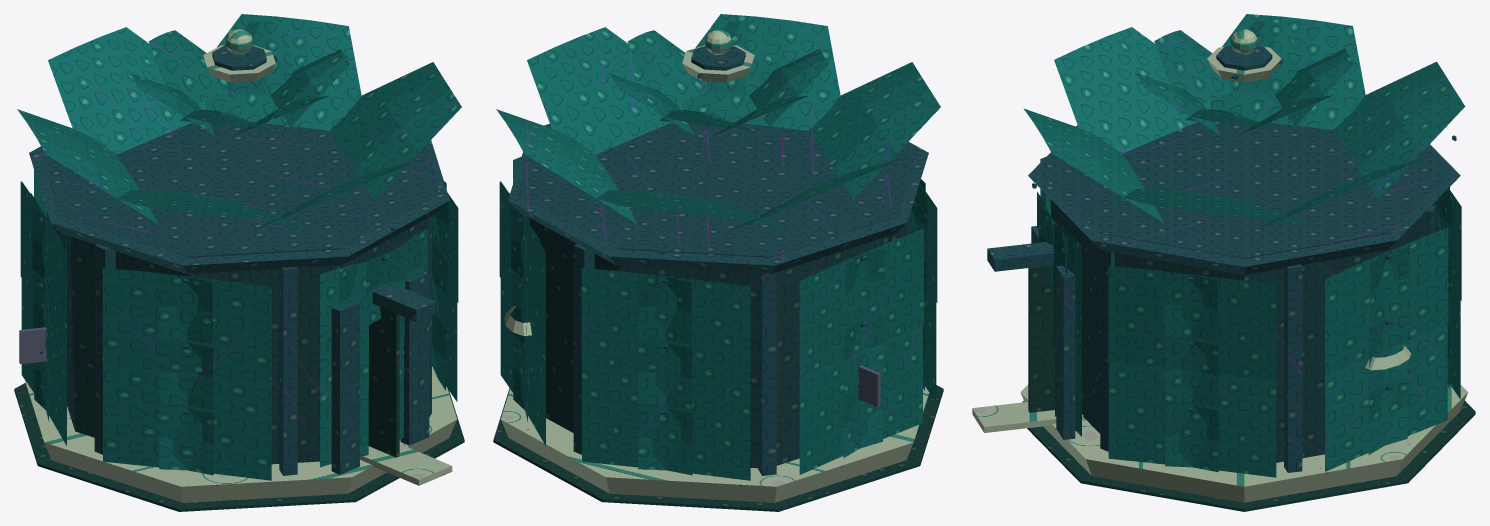
The model's file is env_hut_residential_b.glb.
3 renders of one model, left to right at view 1: azimuth 30°, elevation 25°; view 2: azimuth 150°, elevation 25°; view 3: azimuth 270°, elevation 25°, orthographic.
Parts seen in each view (by area): view 1: lod0__hut_b_shell, lod1__hut_b_shell, lod0__hut_b_clay, lod2__hut_b_shell, lod0__hut_b_alloy; view 2: lod0__hut_b_shell, lod1__hut_b_shell, lod2__hut_b_shell, lod0__hut_b_clay, lod0__hut_b_alloy; view 3: lod0__hut_b_shell, lod1__hut_b_shell, lod0__hut_b_clay, lod2__hut_b_shell.
Boxes of the visible parts, box(x1,y1,x2,y2) form: lod0__hut_b_shell: box(14, 14, 464, 511); lod1__hut_b_shell: box(18, 46, 458, 480); lod0__hut_b_clay: box(25, 29, 457, 502); lod2__hut_b_shell: box(21, 173, 457, 480); lod0__hut_b_alloy: box(19, 327, 46, 364); lod0__hut_b_shell: box(493, 14, 943, 511); lod1__hut_b_shell: box(497, 46, 937, 480); lod2__hut_b_shell: box(500, 157, 936, 479); lod0__hut_b_clay: box(500, 29, 929, 502); lod0__hut_b_alloy: box(858, 365, 880, 406); lod0__hut_b_shell: box(987, 14, 1475, 511); lod1__hut_b_shell: box(1024, 50, 1461, 477); lod0__hut_b_clay: box(972, 29, 1468, 502); lod2__hut_b_shell: box(1041, 158, 1460, 476).
Size of the model in its own units: 4.96 by 4.54 by 5.4.
3 materials, 2 textured.
